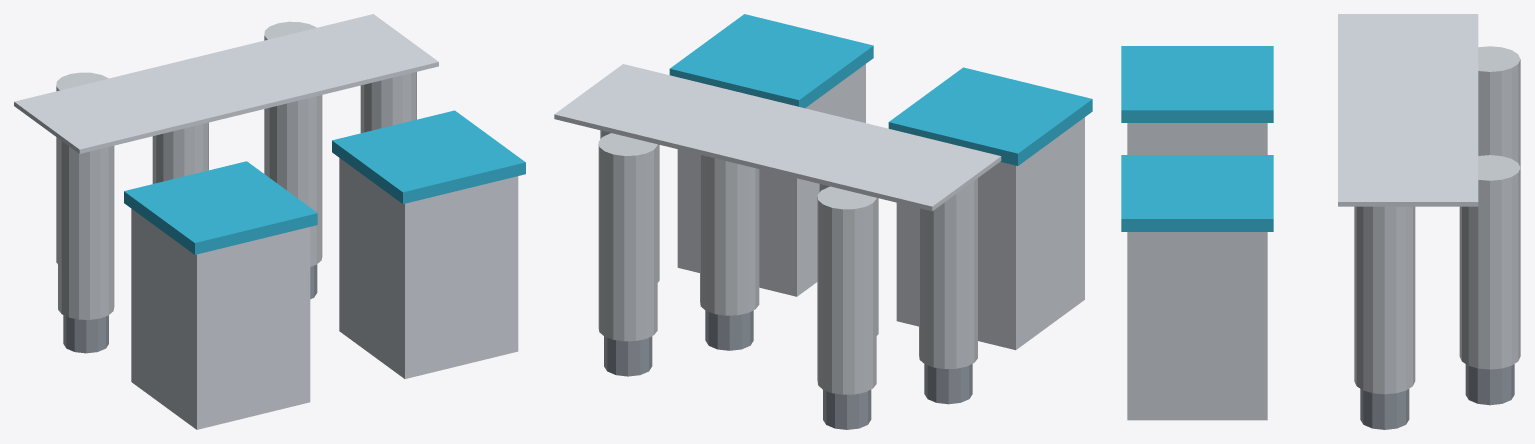
The model's file is bim-plant-s2.glb.
3 renders of one model, left to right at view 1: azimuth 30°, elevation 25°; view 2: azimuth 150°, elevation 25°; view 3: azimuth 270°, elevation 25°, orthographic. The views are drawn at different scales.
Parts seen in each view (by area): view 1: MixTower_42.0, MixTower_20.0, SiloWalkway, MixTop_42.0, MixTop_20.0, Silo_15.0_16.0, Silo_37.0_16.0, Silo_47.0_16.0, Silo_25.0_16.0, SiloSkirt_15.0_16.0, SiloBack_20.0, SiloBack_42.0; view 2: SiloWalkway, MixTower_20.0, SiloBack_42.0, SiloBack_20.0, MixTop_20.0, MixTower_42.0, MixTop_42.0, Silo_15.0_16.0, Silo_37.0_16.0, SiloSkirt_37.0_16.0, SiloBackSkirt_20.0, SiloBackSkirt_42.0 (+1 smaller); view 3: SiloWalkway, MixTower_42.0, SiloBack_42.0, MixTop_20.0, MixTop_42.0, Silo_47.0_16.0, SiloBack_20.0, MixTower_20.0, SiloBackSkirt_42.0, SiloSkirt_47.0_16.0.
Part boxes in pixels (box(x1,y1,x2,y2)): MixTower_42.0: box(339, 158, 518, 378); MixTower_20.0: box(131, 209, 310, 429); SiloWalkway: box(14, 14, 438, 153); MixTop_42.0: box(332, 110, 525, 203); MixTop_20.0: box(124, 161, 317, 254); Silo_15.0_16.0: box(58, 138, 114, 319); Silo_37.0_16.0: box(266, 95, 322, 266); Silo_47.0_16.0: box(360, 72, 416, 133); Silo_25.0_16.0: box(152, 122, 208, 183); SiloSkirt_15.0_16.0: box(63, 315, 108, 353); SiloBack_20.0: box(56, 72, 108, 263); SiloBack_42.0: box(264, 21, 316, 174); SiloWalkway: box(554, 64, 1001, 211); MixTower_20.0: box(896, 117, 1084, 350); SiloBack_42.0: box(598, 133, 657, 341); SiloBack_20.0: box(817, 186, 876, 394); MixTop_20.0: box(888, 67, 1092, 165); MixTower_42.0: box(677, 64, 865, 296); MixTop_42.0: box(669, 14, 873, 108); Silo_15.0_16.0: box(919, 178, 977, 368); Silo_37.0_16.0: box(700, 154, 759, 315); SiloSkirt_37.0_16.0: box(705, 310, 753, 350); SiloBackSkirt_20.0: box(823, 389, 871, 429); SiloBackSkirt_42.0: box(604, 336, 652, 376); SiloWalkway: box(1338, 14, 1478, 206); MixTower_42.0: box(1127, 232, 1267, 420); SiloBack_42.0: box(1459, 155, 1520, 369); MixTop_20.0: box(1121, 46, 1273, 122); MixTop_42.0: box(1121, 155, 1273, 231); Silo_47.0_16.0: box(1354, 206, 1415, 394); SiloBack_20.0: box(1478, 46, 1520, 167); MixTower_20.0: box(1127, 123, 1267, 154); SiloBackSkirt_42.0: box(1465, 364, 1514, 405); SiloSkirt_47.0_16.0: box(1360, 389, 1409, 429).
Size of the model in its own units: 38 by 21.92 by 34.1.
